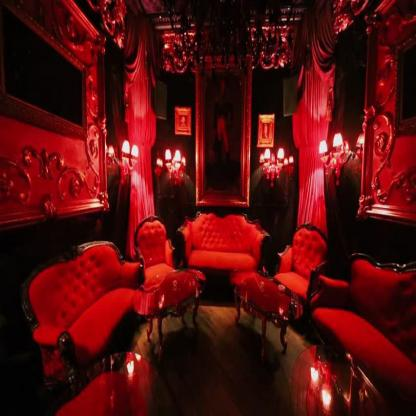other: (313, 125, 361, 160), (255, 142, 293, 184), (151, 142, 188, 177), (107, 132, 136, 176)
